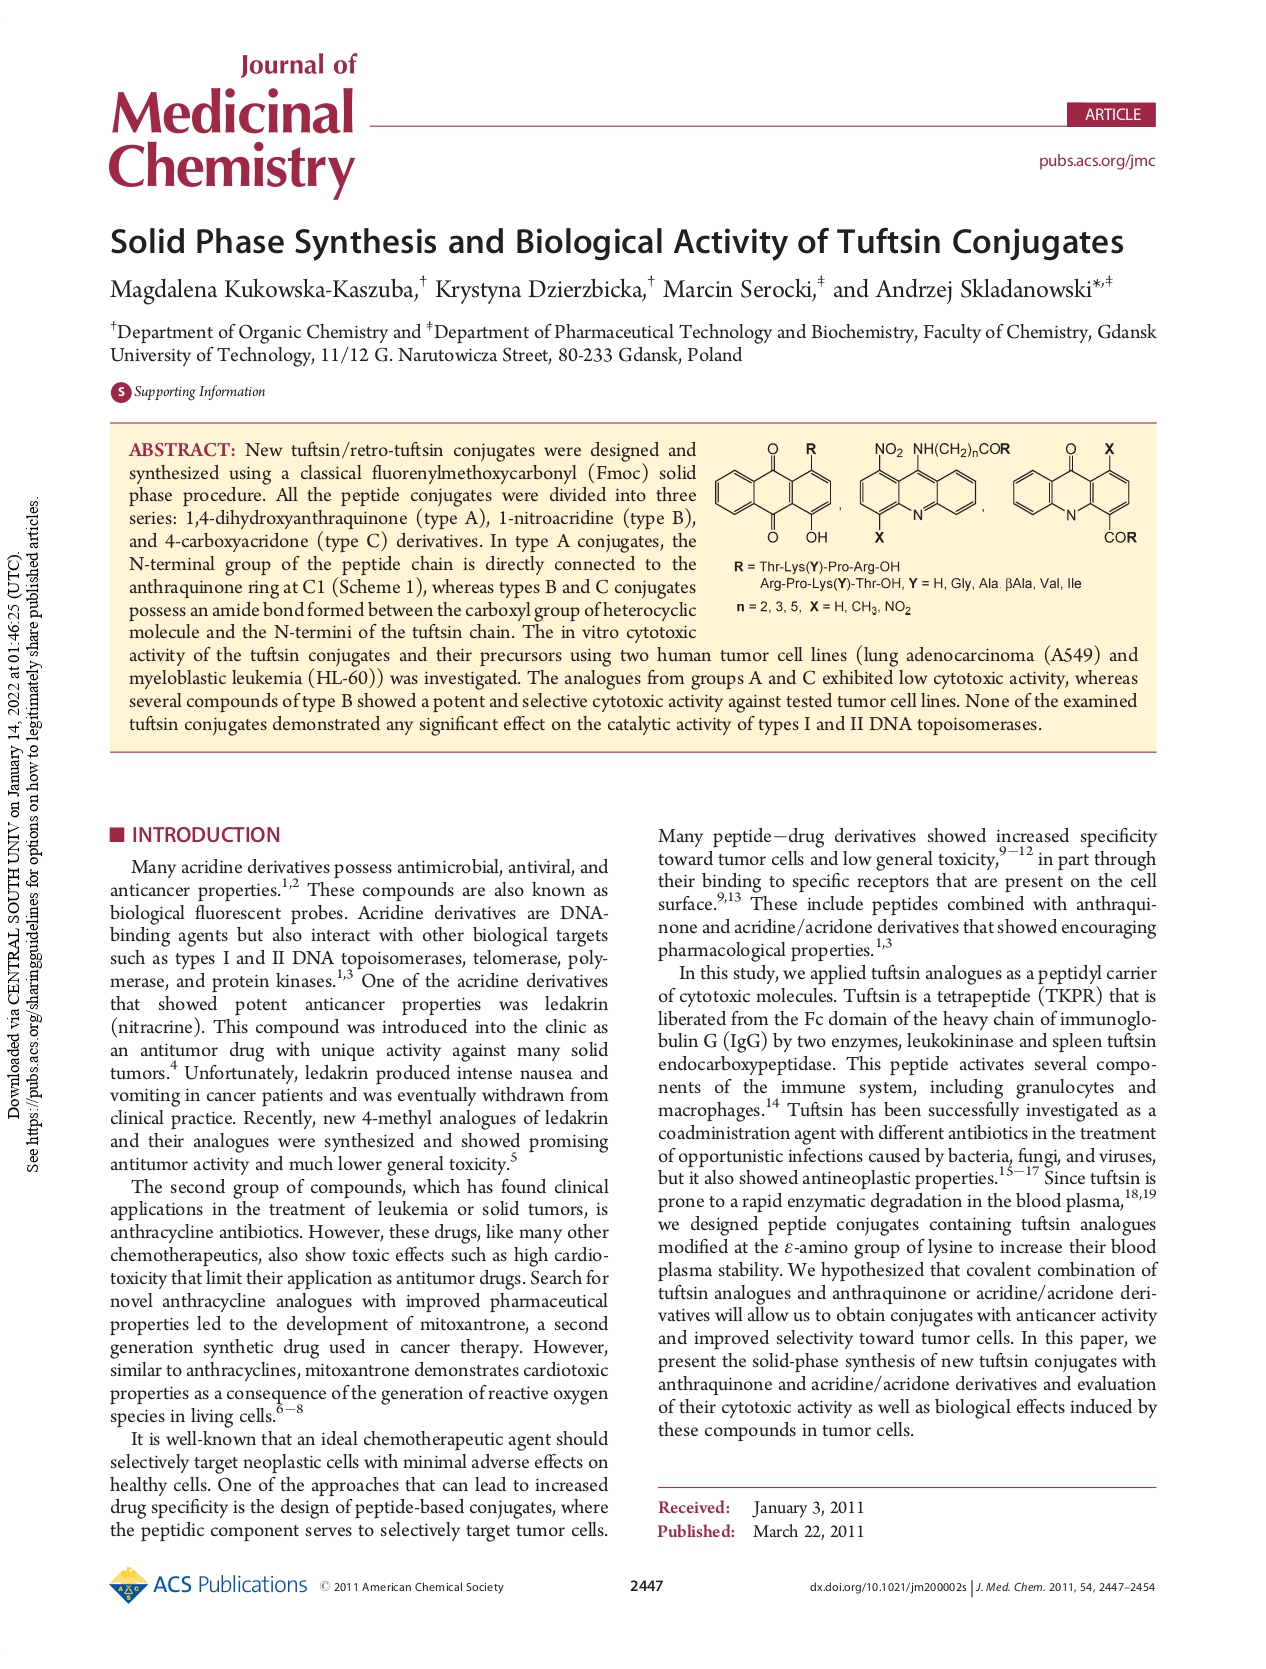exist_molecular: (854, 438, 1011, 544), (710, 438, 836, 548), (1011, 439, 1138, 547)
